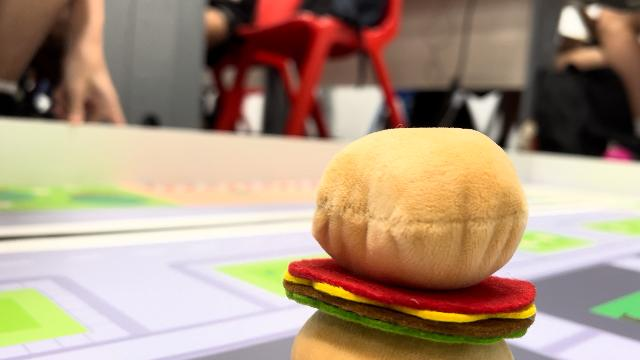burger: (280, 120, 538, 360)
